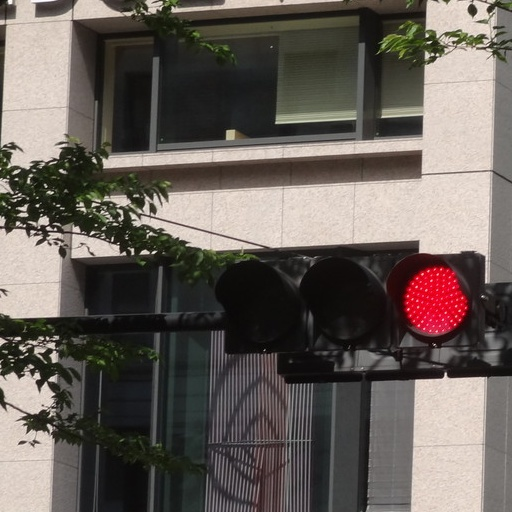Traffic_Signal_Red: (220, 251, 489, 347)
